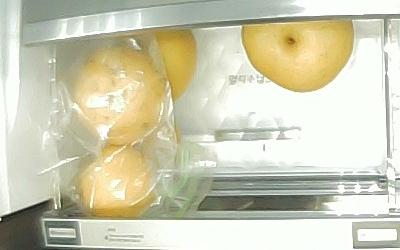pear: (240, 19, 353, 93)
pear_vinyl: (75, 43, 163, 144), (116, 28, 199, 106), (76, 145, 154, 218)
